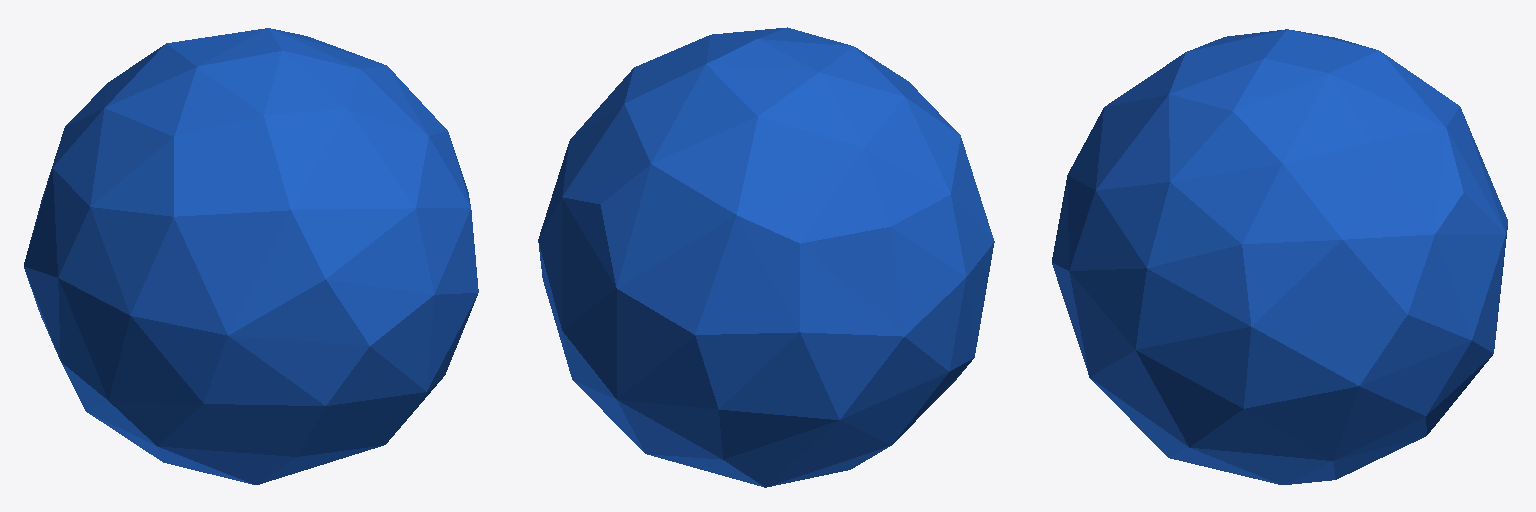
The model's file is bubble.obj.
3 renders of one model, left to right at view 1: azimuth 30°, elevation 25°; view 2: azimuth 150°, elevation 25°; view 3: azimuth 270°, elevation 25°, orthographic.
Visible parts, largest first — view 1: Sphere; view 2: Sphere; view 3: Sphere.
Part boxes in pixels (x1,y1,x2,y2): Sphere: (24, 28, 478, 484); Sphere: (538, 27, 994, 487); Sphere: (1052, 29, 1507, 484).
Bounding box in the file's own units: 2.01 × 2.01 × 2.01.